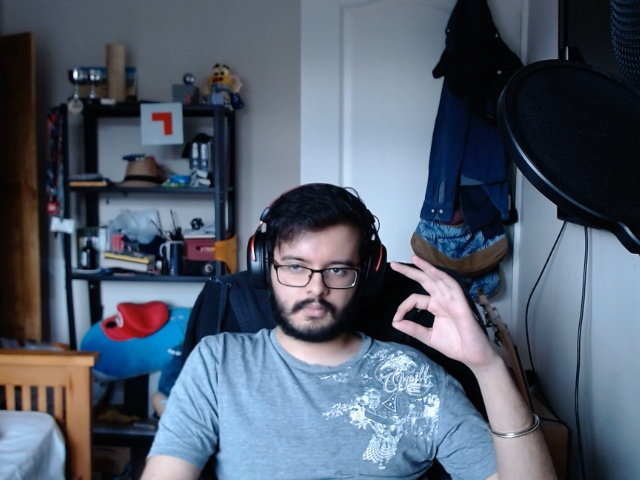Okay: (387, 256, 506, 369)
